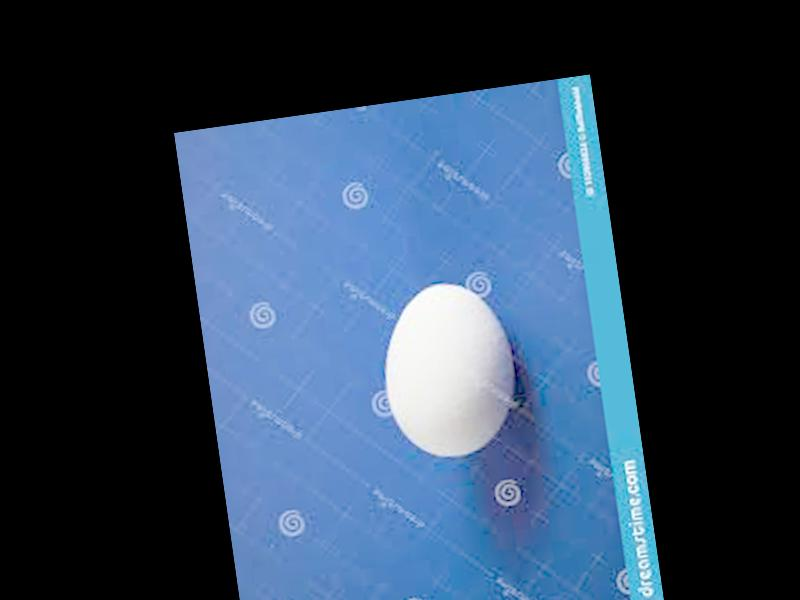Eggs: (374, 275, 525, 465)
